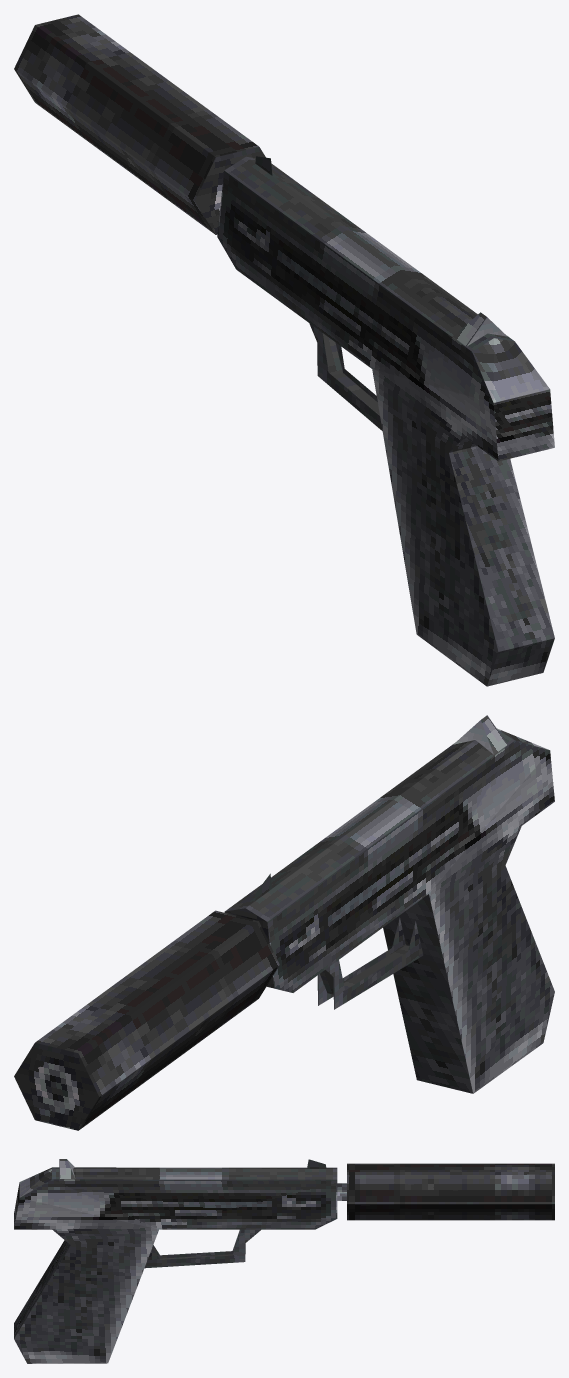
The model's file is recovered_gun_hkp9s.glb.
The picture shows the model from 3 angles, top to bottom: view 1: azimuth 30°, elevation 25°; view 2: azimuth 150°, elevation 25°; view 3: azimuth 270°, elevation 25°; orthographic projection. The views are drawn at different scales.
Parts seen in each view (by area): view 1: Gun_b4265223f024; view 2: Gun_b4265223f024; view 3: Gun_b4265223f024.
Boxes of the visible parts, x1,y1,x2,y2 form: Gun_b4265223f024: (14,14,554,686); Gun_b4265223f024: (14,715,554,1130); Gun_b4265223f024: (14,1159,554,1363).
Size of the model in its own units: 0.0458 by 0.1752 by 0.4364.
Materials: 1 (1 with a texture image).
